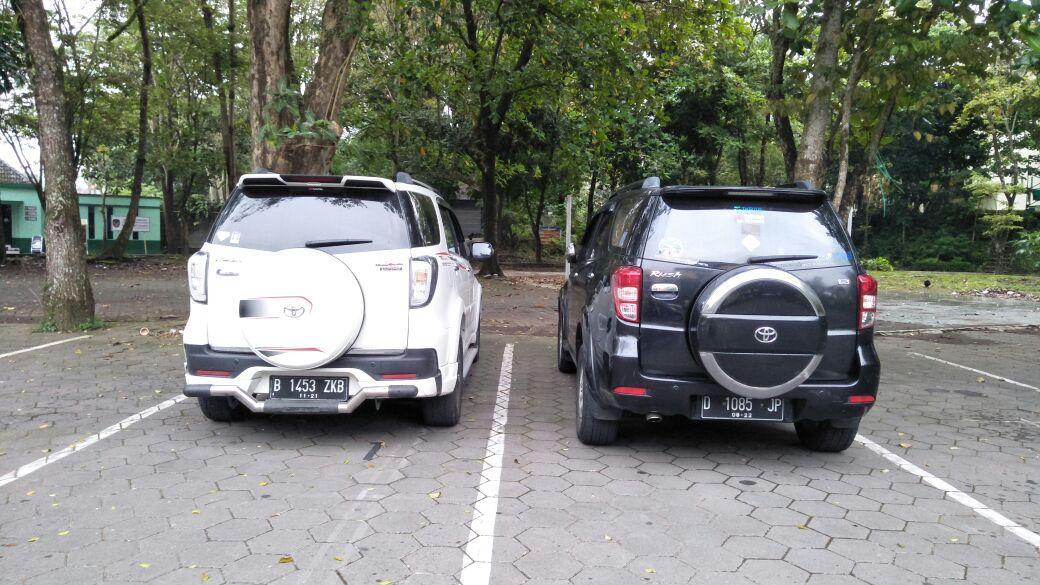clone-license-plate: (699, 391, 785, 422), (267, 374, 347, 401)
